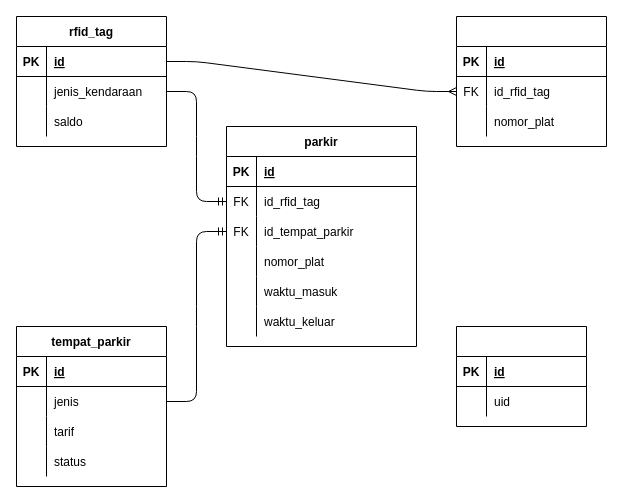
Some shapes in this 623 by 503 pixel diagram are drawn without their labels. The shapes that lost their labels are listed below. From the top down, each one's box as (x1, y1, x2, y2) in pixels, then its label:
(456, 16, 606, 146): kendaraan
(456, 326, 586, 426): reload_id
